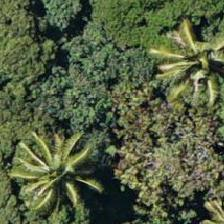coconut_tree: (2, 120, 92, 210), (155, 13, 223, 103)
